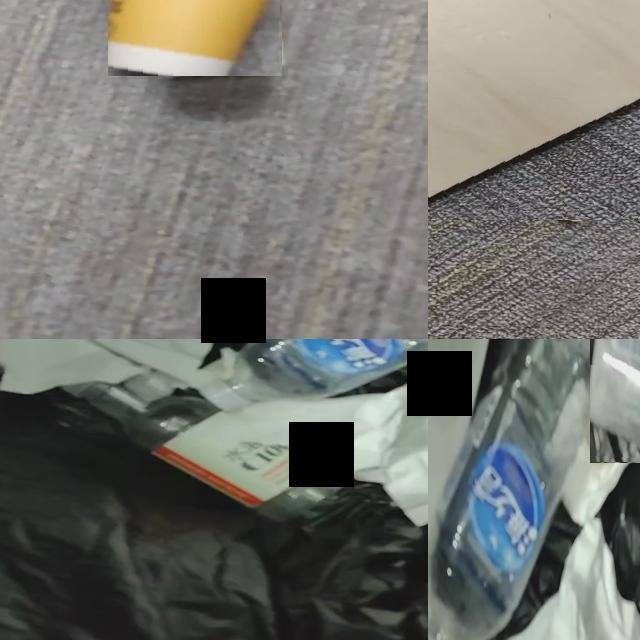bottle: (428, 339, 612, 640), (69, 384, 347, 516), (202, 339, 428, 410), (590, 339, 640, 445)
carton: (428, 0, 640, 195)
dixie_cup: (108, 0, 270, 76)
paper: (223, 380, 428, 526), (506, 444, 640, 640), (0, 339, 213, 394)
